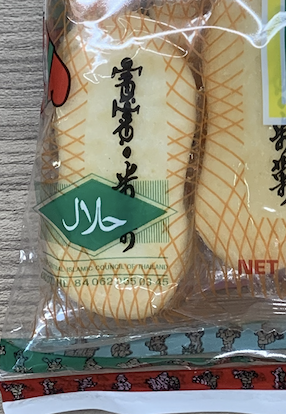halal: (62, 195, 131, 236)
